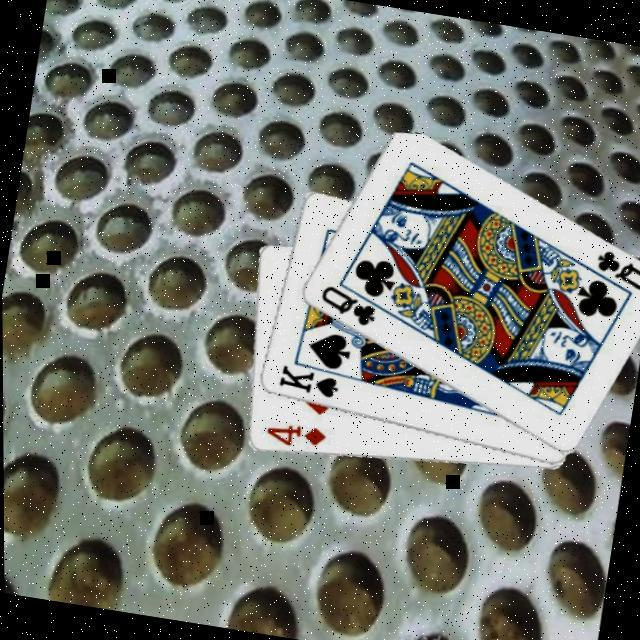4D: (260, 416, 328, 454)
KS: (272, 361, 342, 402)
QC: (312, 280, 380, 330), (587, 244, 640, 294)
